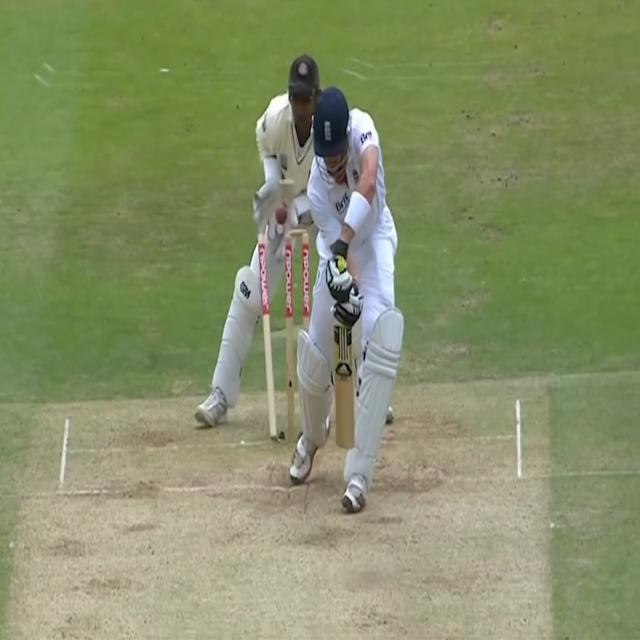ball: (274, 203, 289, 227)
